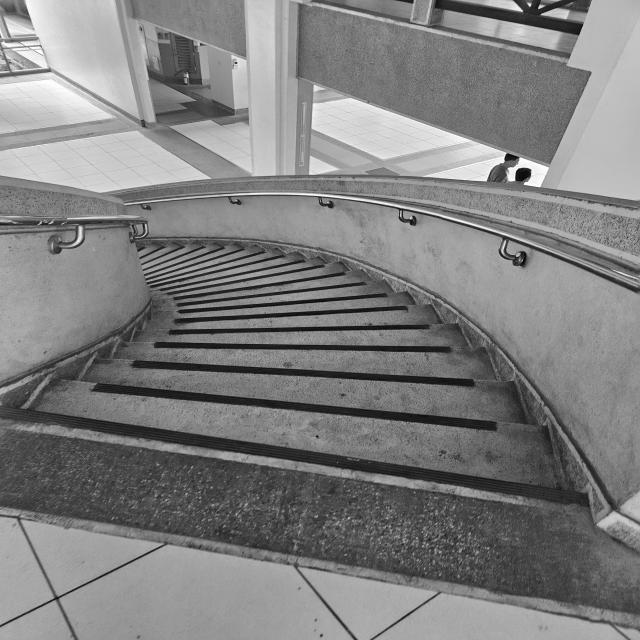Road-Object: (0, 68, 250, 192), (310, 87, 500, 180)
floor: (0, 241, 640, 627)
